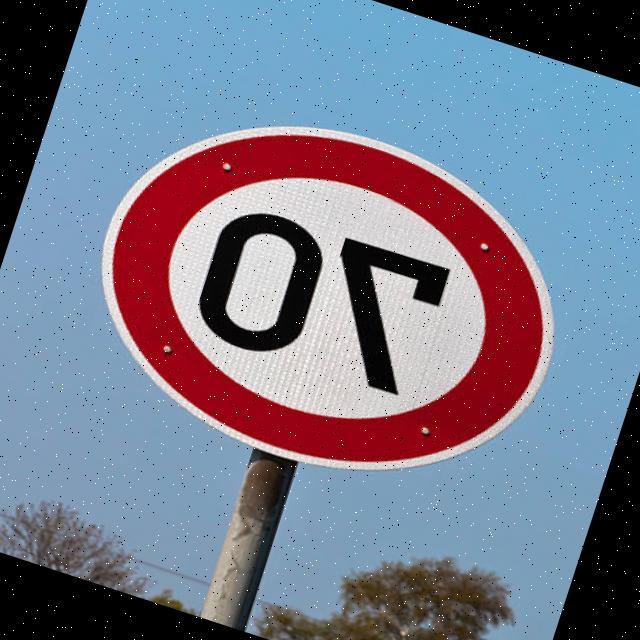speed_limit_70: (59, 66, 600, 527)
